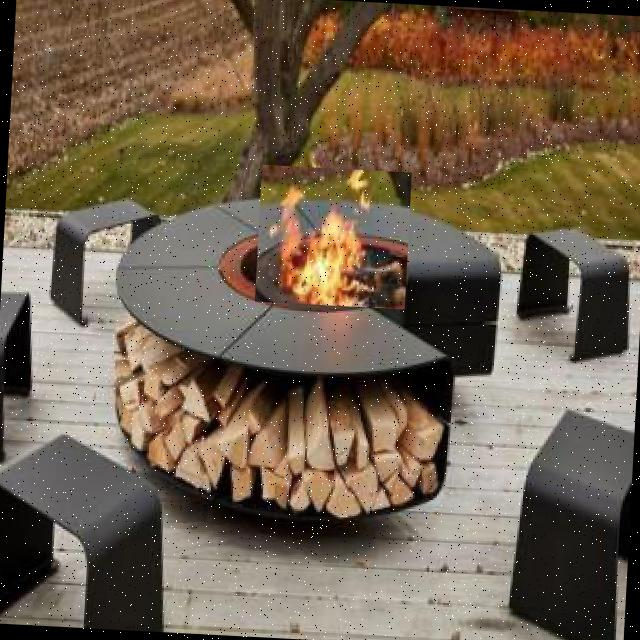fire: (255, 164, 412, 310)
